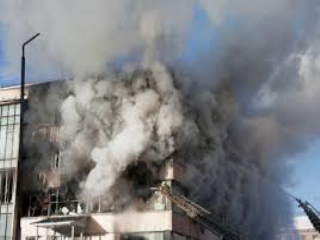smoke: (53, 73, 223, 202)
